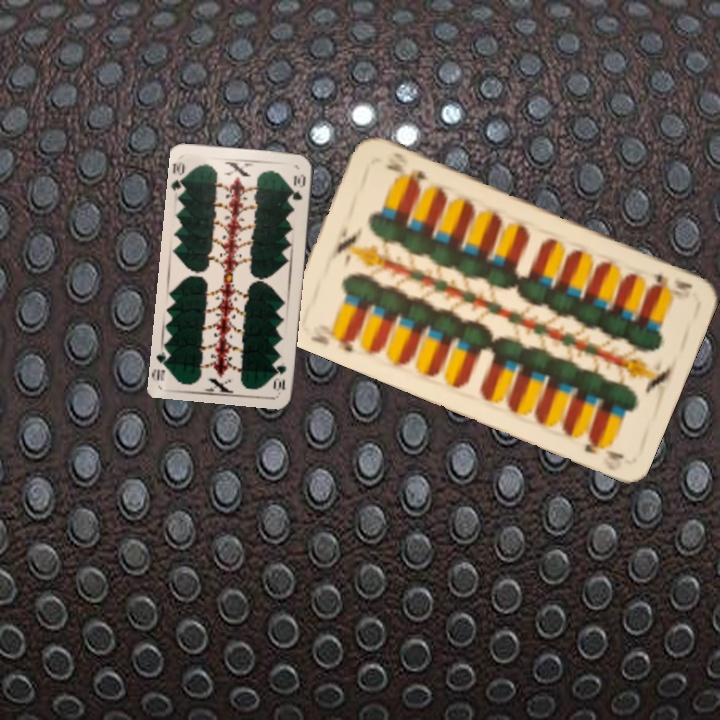E10: (306, 330, 359, 355), (648, 269, 695, 292)
G10: (168, 158, 189, 196), (270, 361, 289, 393)
